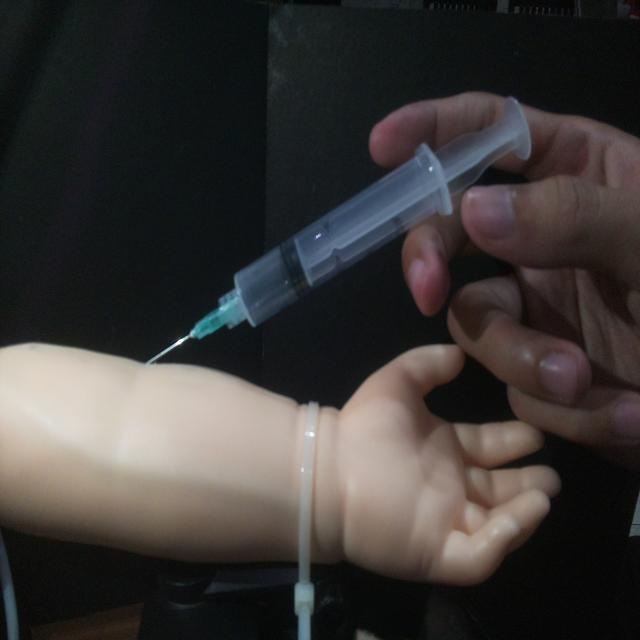27deg: (140, 91, 534, 368)
